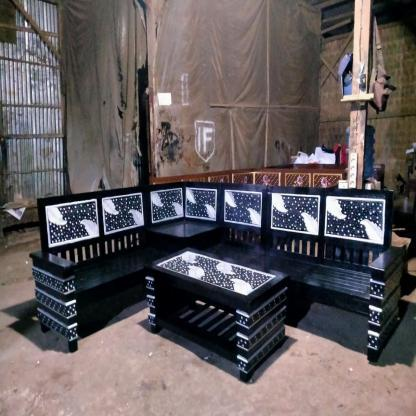meja: (150, 248, 288, 379)
